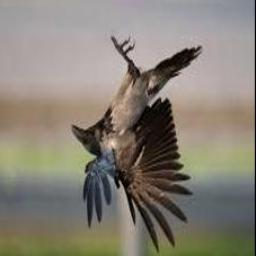Crow: (72, 37, 204, 253)
